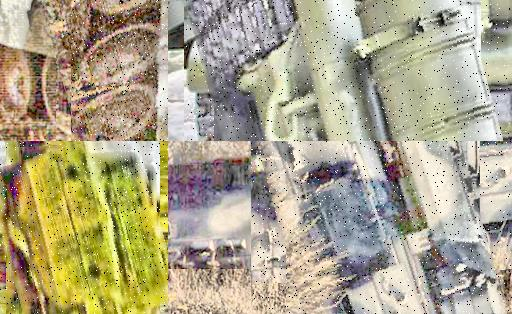tanks: (186, 1, 504, 142), (258, 142, 508, 314), (1, 143, 169, 314), (72, 1, 169, 142)
